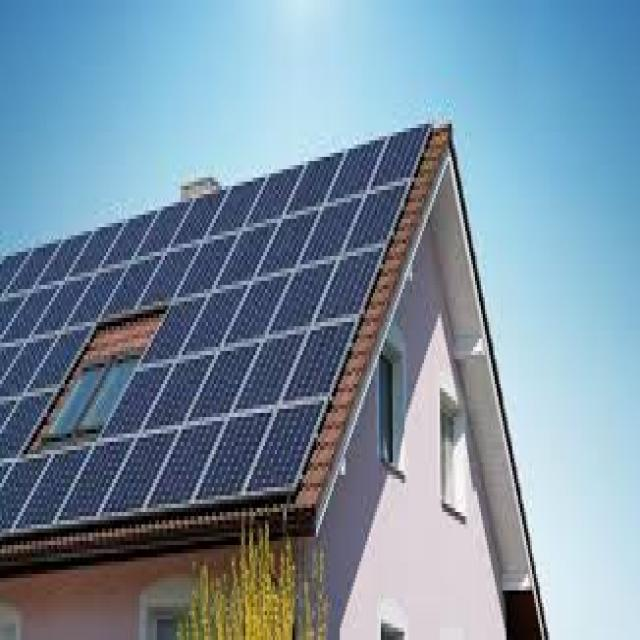clean-solar-panel: (1, 130, 431, 544)
